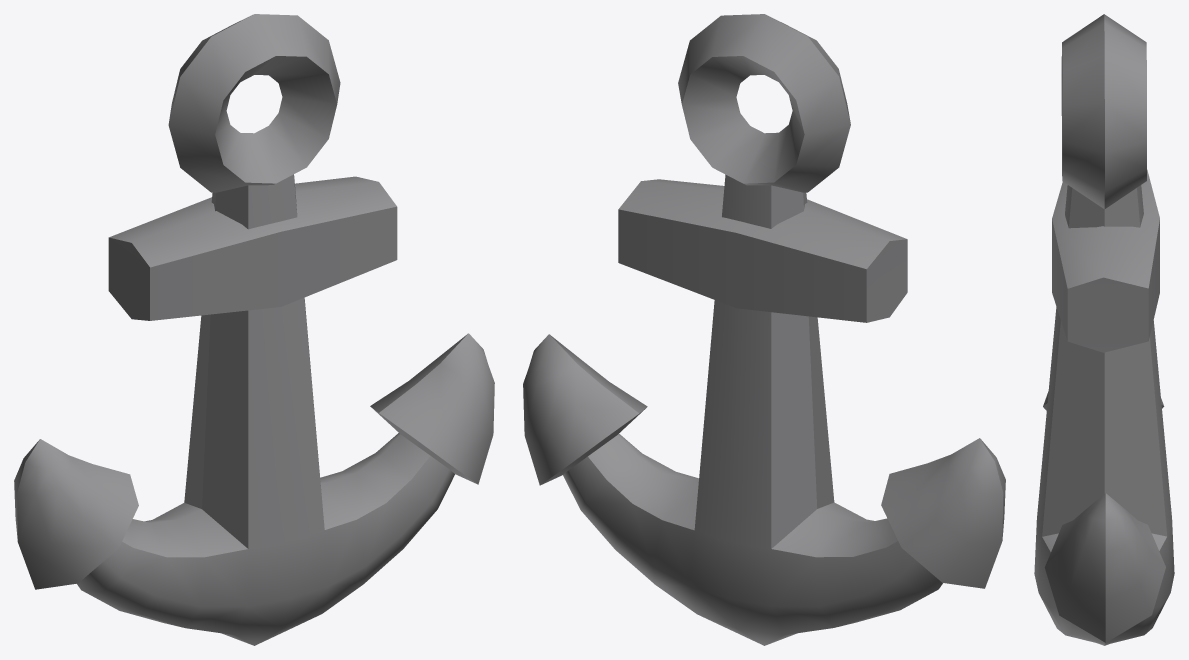
Rendered from Anchor_01.fbx.
The picture shows the model from 3 angles, left to right: view 1: azimuth 30°, elevation 25°; view 2: azimuth 150°, elevation 25°; view 3: azimuth 270°, elevation 25°; orthographic projection.
Parts seen in each view (by area): view 1: Anchor_01; view 2: Anchor_01; view 3: Anchor_01.
Part boxes in pixels (<box>): Anchor_01: <box>14,14,494,645</box>; Anchor_01: <box>523,14,1005,645</box>; Anchor_01: <box>1034,14,1174,645</box>.
Bounding box in the file's own units: 132 × 168 × 34.2.
